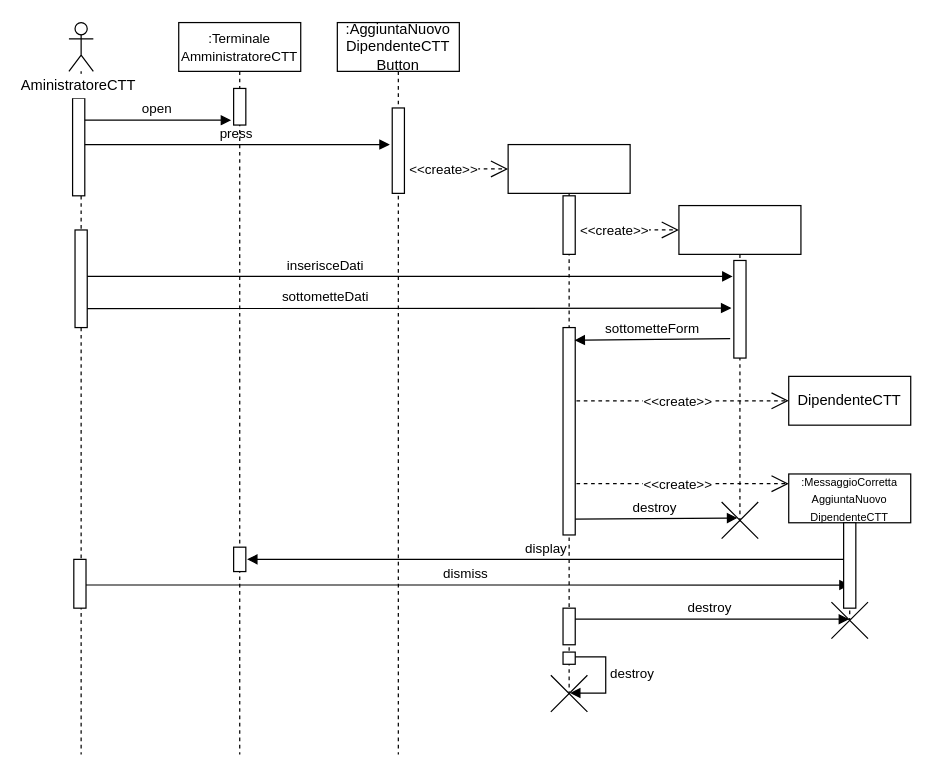
This 932x776 diagram has some shape labels left out. The shapes that lost their labels are listed below. From the top down, each one's box as (x1, y1, x2, y2) in pixels, then its label:
(678, 204, 801, 523): :AggiuntaNuovo DipendenteCTT Form
(507, 143, 630, 694): :AggiuntaNuovo DipendenteCTT Control
